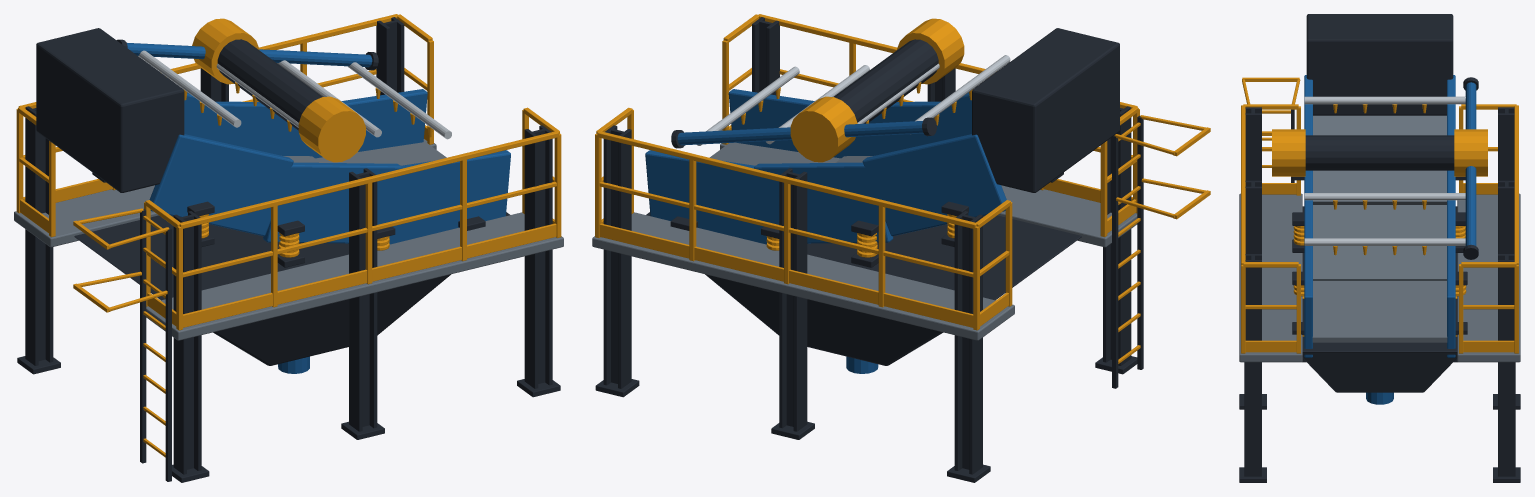
The model's file is desliming_screen_ds201.glb.
The picture shows the model from 3 angles, left to right: view 1: azimuth 30°, elevation 25°; view 2: azimuth 150°, elevation 25°; view 3: azimuth 270°, elevation 25°; orthographic projection. The views are drawn at different scales.
Parts seen in each view (by area): view 1: DS201_FeedBox, DS201_SlurryUnderpan, DS201_WalkL_Deck, DS201_SideL_Seg1, DS201_SideL_Seg3, DS201_SideL_Seg2, DS201_WalkL_RailS_ToeBoard, DS201_ExciterBeam, DS201_SideR_Seg2, DS201_WalkR_Deck, DS201_ExciterPodL, DS201_Col_3_FlangeF (+35 smaller); view 2: DS201_FeedBox, DS201_SlurryUnderpan, DS201_WalkR_Deck, DS201_SideR_Seg1, DS201_SideR_Seg3, DS201_SideR_Seg2, DS201_WalkR_RailN_ToeBoard, DS201_WalkL_Deck, DS201_ExciterBeam, DS201_Col_5_FlangeF, DS201_ExciterPodR, DS201_Col_6_FlangeF (+31 smaller); view 3: DS201_FeedBox, DS201_Deck_Seg2, DS201_Deck_Seg3, DS201_SlurryUnderpan, DS201_Deck_Seg1, DS201_WalkL_Deck, DS201_ExciterBeam, DS201_WalkR_Deck, DS201_Col_3_FlangeB, DS201_Col_6_FlangeB, DS201_ExciterPodL, DS201_ExciterPodR (+26 smaller).
Boxes of the visible parts, x1,y1,x2,y2 form: DS201_FeedBox: [36, 28, 184, 192]; DS201_SlurryUnderpan: [74, 212, 509, 365]; DS201_WalkL_Deck: [146, 212, 563, 340]; DS201_SideL_Seg1: [149, 134, 293, 236]; DS201_SideL_Seg3: [389, 150, 510, 244]; DS201_SideL_Seg2: [263, 162, 402, 243]; DS201_WalkL_RailS_ToeBoard: [183, 223, 556, 327]; DS201_ExciterBeam: [217, 39, 322, 130]; DS201_SideR_Seg2: [195, 101, 309, 155]; DS201_WalkR_Deck: [14, 139, 436, 247]; DS201_ExciterPodL: [298, 96, 365, 162]; DS201_Col_3_FlangeF: [524, 129, 538, 388]; DS201_FeedBox: [972, 28, 1119, 192]; DS201_SlurryUnderpan: [646, 212, 1081, 365]; DS201_WalkR_Deck: [592, 212, 1014, 340]; DS201_SideR_Seg1: [862, 134, 1006, 236]; DS201_SideR_Seg3: [645, 150, 766, 244]; DS201_SideR_Seg2: [754, 162, 893, 243]; DS201_WalkR_RailN_ToeBoard: [599, 223, 973, 327]; DS201_WalkL_Deck: [720, 143, 1137, 247]; DS201_ExciterBeam: [834, 39, 938, 123]; DS201_Col_5_FlangeF: [793, 171, 807, 431]; DS201_ExciterPodR: [790, 96, 857, 162]; DS201_Col_6_FlangeF: [618, 129, 631, 388]; DS201_FeedBox: [1306, 14, 1453, 115]; DS201_Deck_Seg2: [1313, 205, 1446, 280]; DS201_Deck_Seg3: [1312, 281, 1447, 342]; DS201_SlurryUnderpan: [1302, 206, 1457, 392]; DS201_Deck_Seg1: [1313, 115, 1446, 204]; DS201_WalkL_Deck: [1239, 193, 1302, 362]; DS201_ExciterBeam: [1305, 135, 1454, 170]; DS201_WalkR_Deck: [1457, 193, 1520, 362]; DS201_Col_3_FlangeB: [1244, 260, 1261, 476]; DS201_Col_6_FlangeB: [1498, 260, 1515, 476]; DS201_ExciterPodL: [1272, 129, 1305, 176]; DS201_ExciterPodR: [1454, 129, 1487, 176].
Size of the model in its own units: 4.54 by 3.38 by 2.84.
